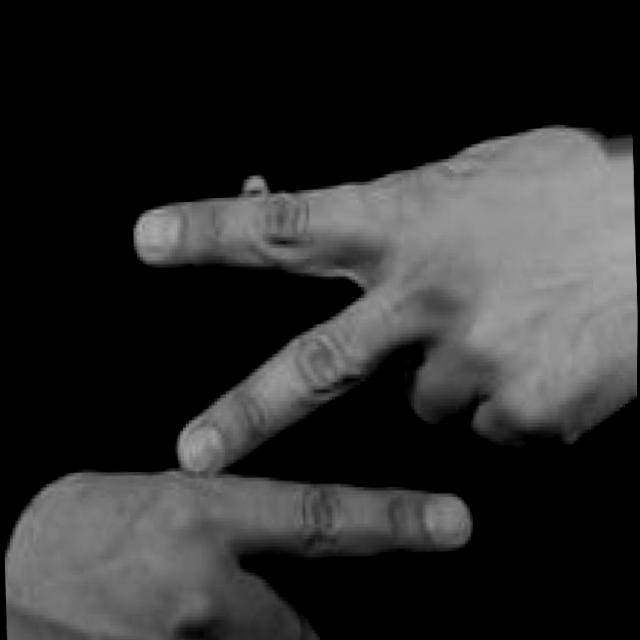Z: (0, 105, 639, 640)
